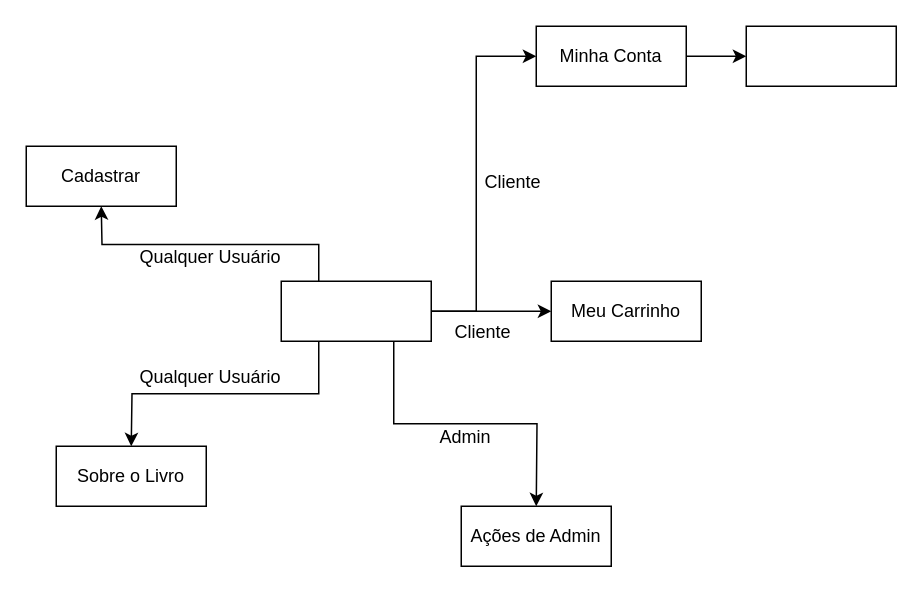
This 923x593 diagram has some shape labels left out. Here are the shapes that lost their labels. From the top down, the box of each, then its label:
(745, 25, 896, 86): Editar Conta
(280, 280, 431, 341): Principal
